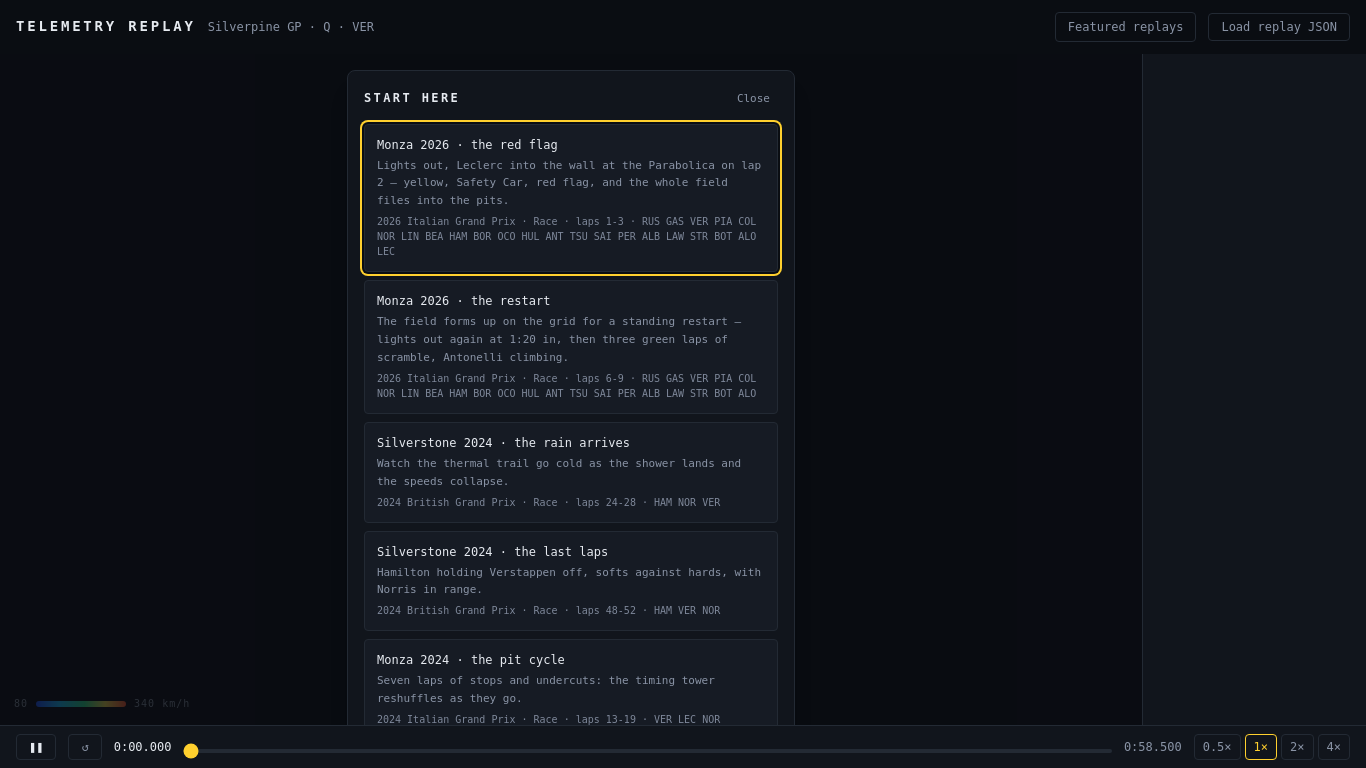
Test: the featured-replay gallery › reopens from the same control it closed from
The width and height of the screenshot is (1366, 768).
Click the button "Close" at (753, 99), box [729, 87, 778, 112]
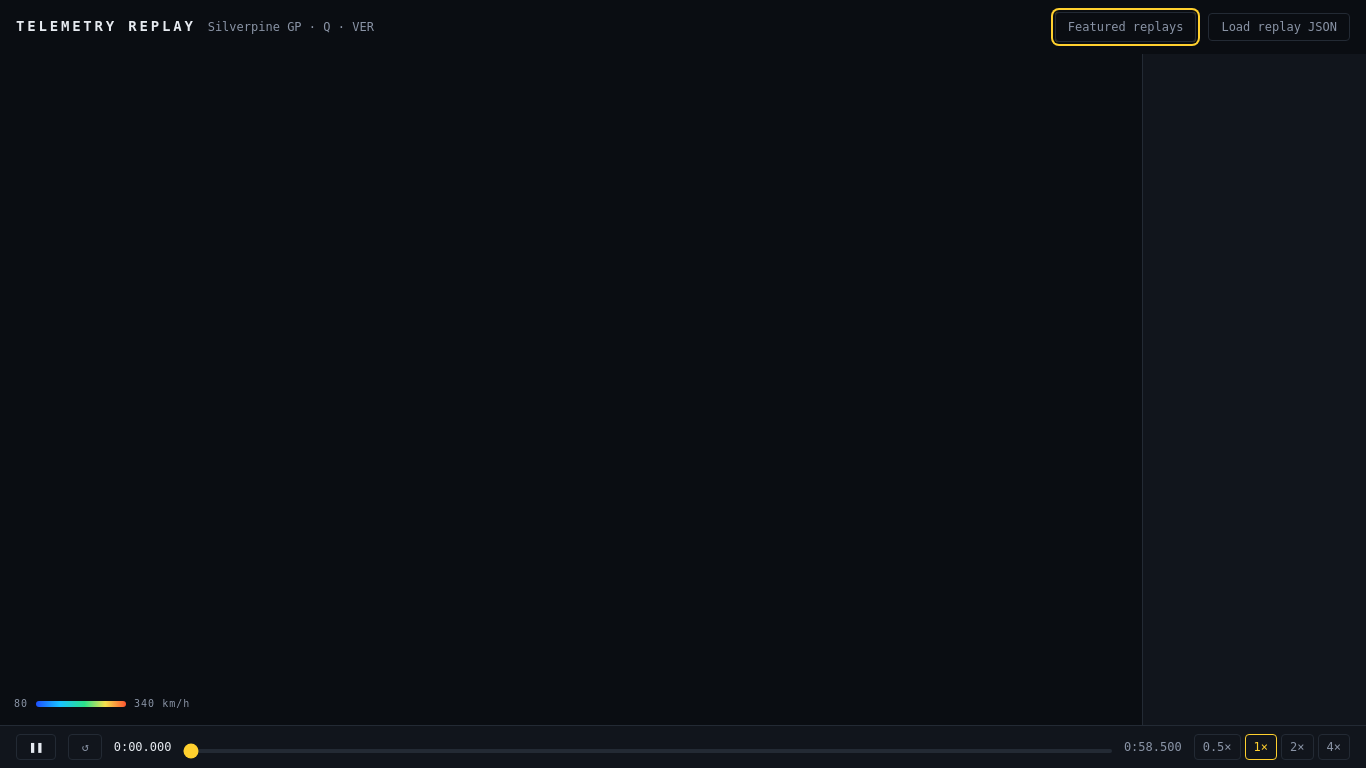
Expected: the dialog is gone
Click the button "Featured replays" at (1126, 27), box [1055, 12, 1196, 42]
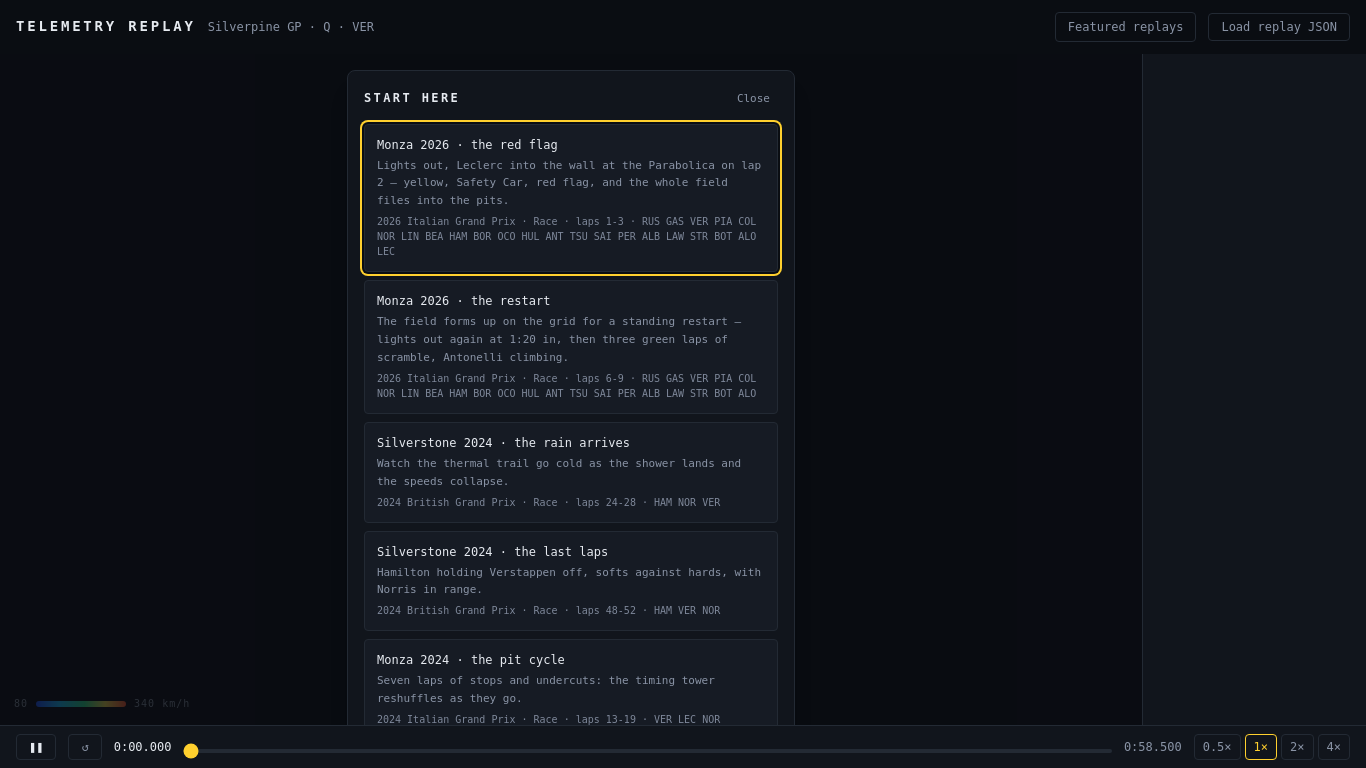
Expected: the dialog is shown
